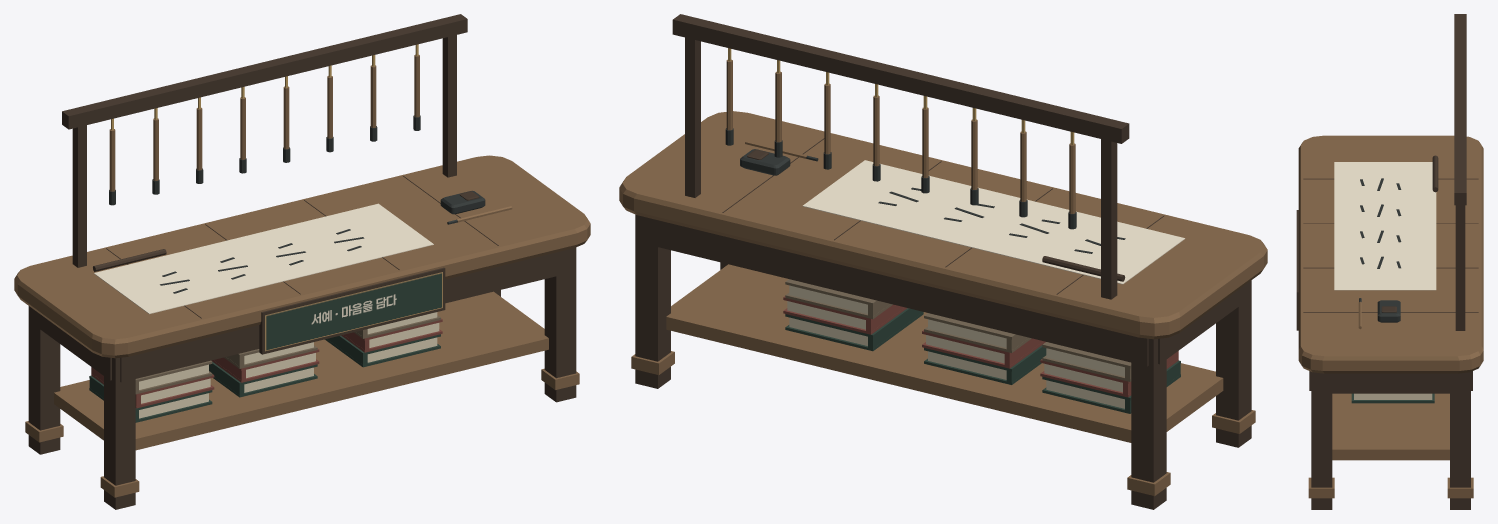
The model's file is 04_Calligraphy_Worktable.fbx.
The picture shows the model from 3 angles, left to right: view 1: azimuth 30°, elevation 25°; view 2: azimuth 150°, elevation 25°; view 3: azimuth 270°, elevation 25°; orthographic projection. The views are drawn at different scales.
Visible parts, largest first — view 1: 04_Calligraphy_Worktable__Structure; view 2: 04_Calligraphy_Worktable__Structure; view 3: 04_Calligraphy_Worktable__Structure.
Part boxes in pixels (x1,y1,x2,y2): 04_Calligraphy_Worktable__Structure: (14, 14, 590, 509); 04_Calligraphy_Worktable__Structure: (619, 14, 1267, 509); 04_Calligraphy_Worktable__Structure: (1296, 14, 1483, 509).
Bounding box in the file's own units: 273 × 174 × 97.2.
Materials: 1 (1 with a texture image).
